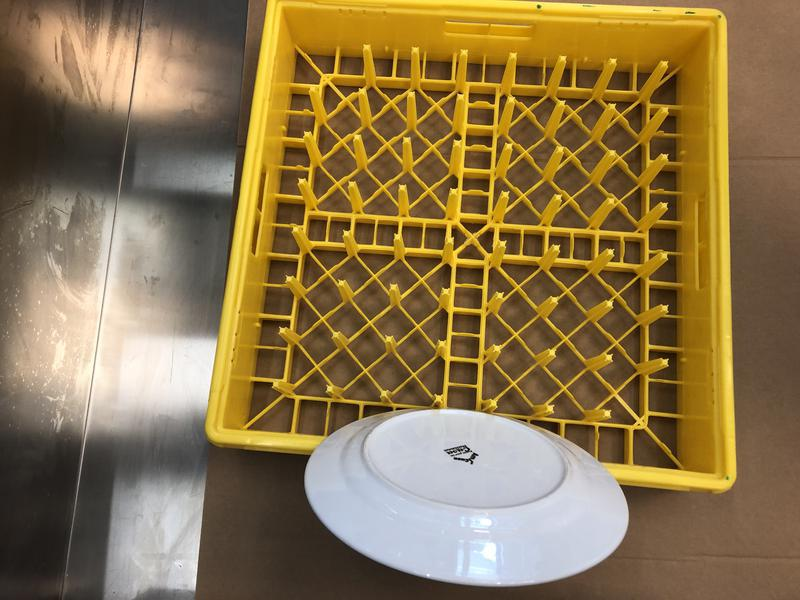Inclined_dish: (303, 404, 631, 590)
